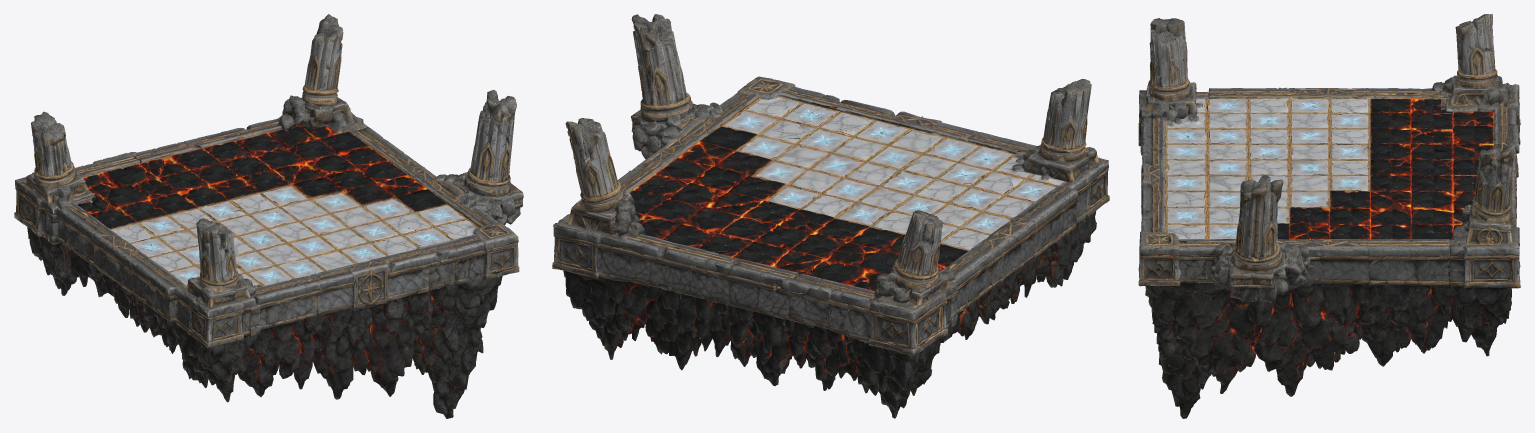
File: floating_chess_arena.glb
The picture shows the model from 3 angles, left to right: view 1: azimuth 30°, elevation 25°; view 2: azimuth 150°, elevation 25°; view 3: azimuth 270°, elevation 25°; orthographic projection. The views are drawn at different scales.
Parts seen in each view (by area): view 1: Mesh_0; view 2: Mesh_0; view 3: Mesh_0.
Boxes of the visible parts, x1=… form: Mesh_0: x1=14, y1=14, x2=523, y2=418; Mesh_0: x1=552, y1=14, x2=1109, y2=418; Mesh_0: x1=1138, y1=14, x2=1520, y2=418.
Bounding box in the file's own units: 1.9 × 1.35 × 1.6.
Materials: 1 (1 with a texture image).
